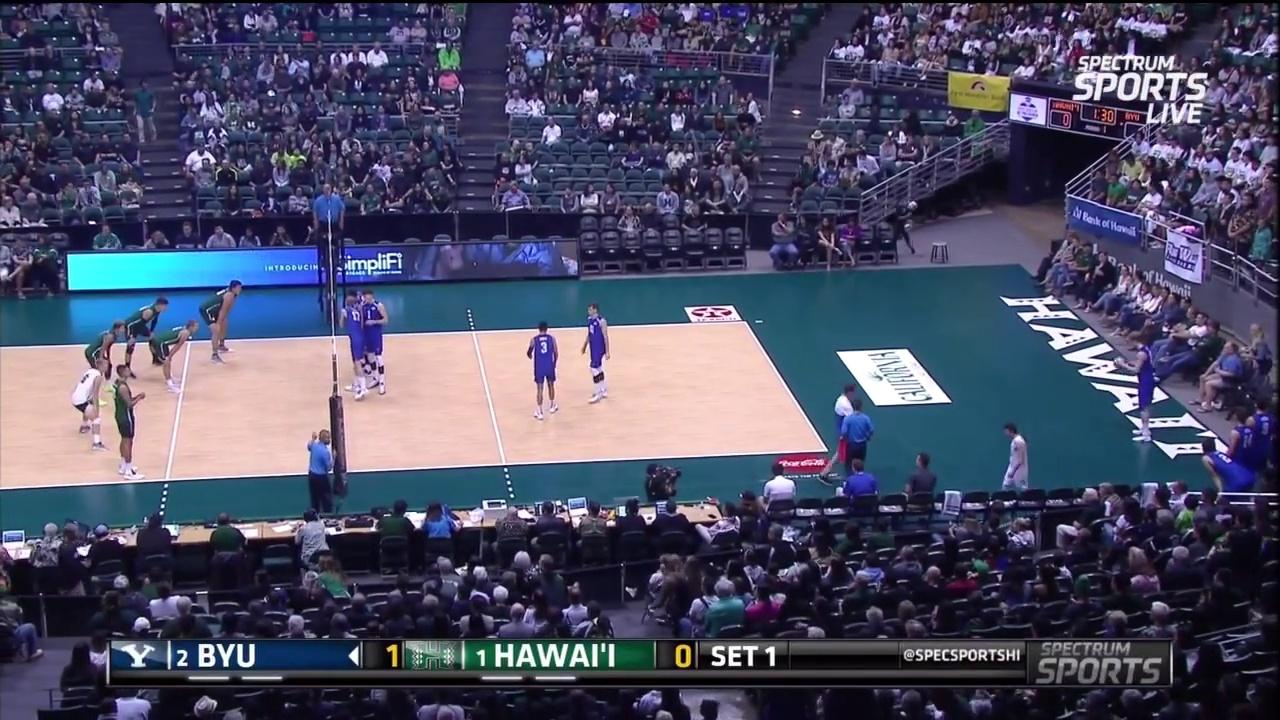player: (105, 361, 154, 484), (1115, 328, 1162, 448), (122, 294, 176, 371), (71, 361, 114, 451), (339, 298, 374, 403), (154, 316, 200, 394), (199, 277, 240, 363), (82, 314, 125, 396), (581, 303, 612, 404), (526, 321, 558, 417), (361, 287, 391, 387), (346, 289, 369, 391)
refree: (302, 426, 342, 515), (308, 184, 351, 260), (840, 399, 876, 479)
